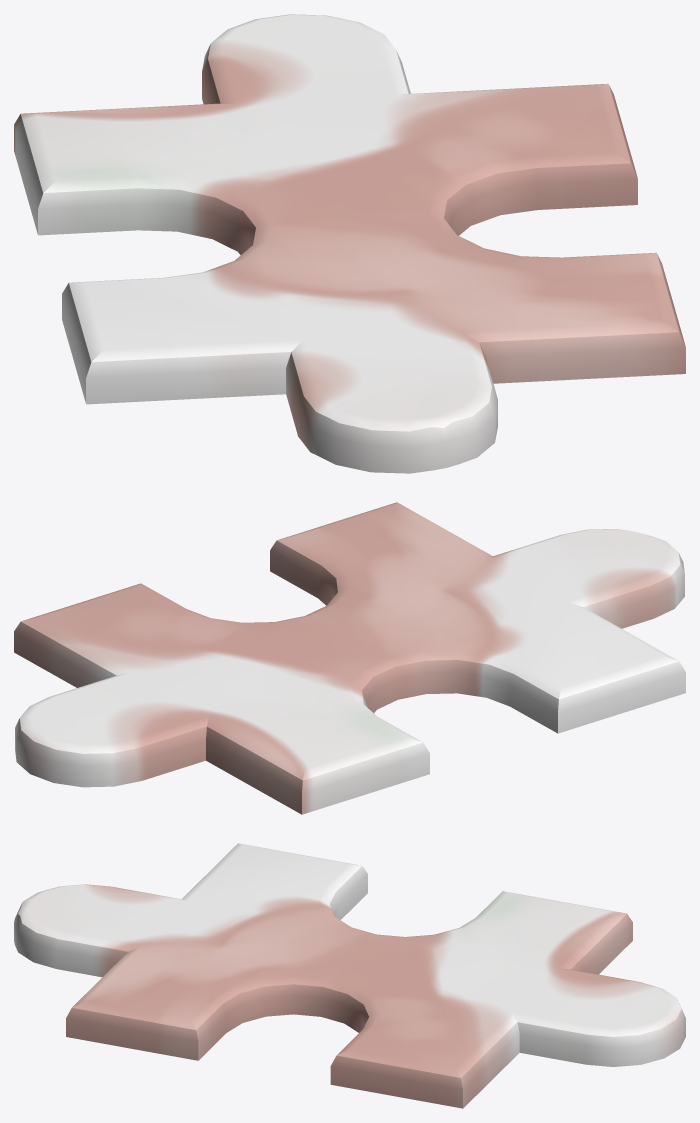
The model's file is PuzzlePiece7.fbx.
3 renders of one model, top to bottom at view 1: azimuth 30°, elevation 25°; view 2: azimuth 150°, elevation 25°; view 3: azimuth 270°, elevation 25°, orthographic. The views are drawn at different scales.
Visible parts, largest first — view 1: polySurface7; view 2: polySurface7; view 3: polySurface7.
Boxes of the visible parts, left/top/right/bottom form: polySurface7: left=14, top=14, right=685, bottom=473; polySurface7: left=14, top=502, right=685, bottom=814; polySurface7: left=14, top=843, right=685, bottom=1108.
Size of the model in its own units: 1.31 by 0.0821 by 1.56.
2 materials, 1 textured.
